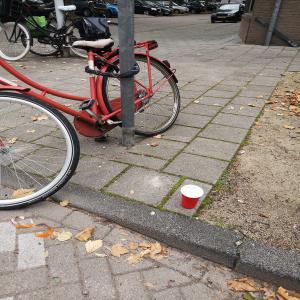Cup: (177, 183, 208, 214)
